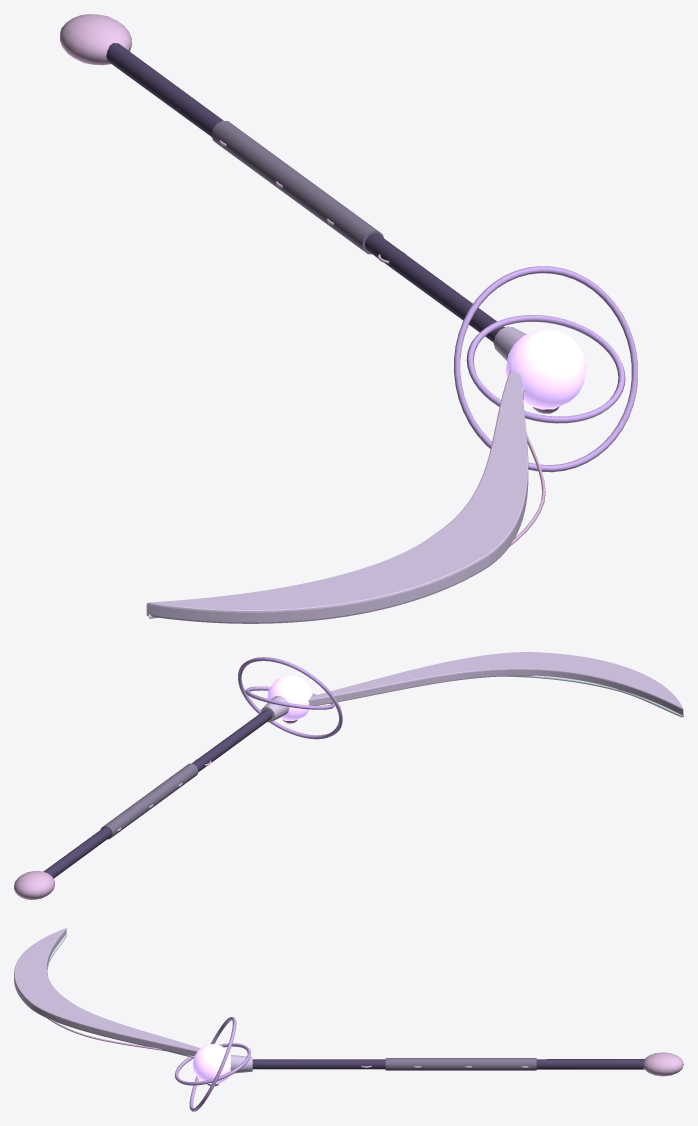
File: nythera_right.glb
The picture shows the model from 3 angles, top to bottom: view 1: azimuth 30°, elevation 25°; view 2: azimuth 150°, elevation 25°; view 3: azimuth 270°, elevation 25°; orthographic projection. The views are drawn at different scales.
Parts seen in each view (by area): view 1: nythera_right; view 2: nythera_right; view 3: nythera_right.
Part boxes in pixels (x1,y1,x2,y2): nythera_right: (60, 14, 637, 623); nythera_right: (14, 652, 683, 899); nythera_right: (14, 928, 683, 1111).
Size of the model in its own units: 1.36 by 0.3454 by 2.49.
